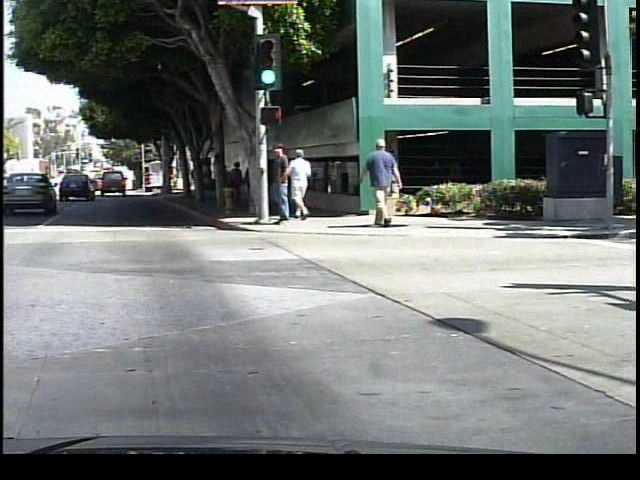person: (358, 134, 404, 227), (269, 142, 299, 235), (284, 145, 315, 219), (229, 158, 245, 209)
